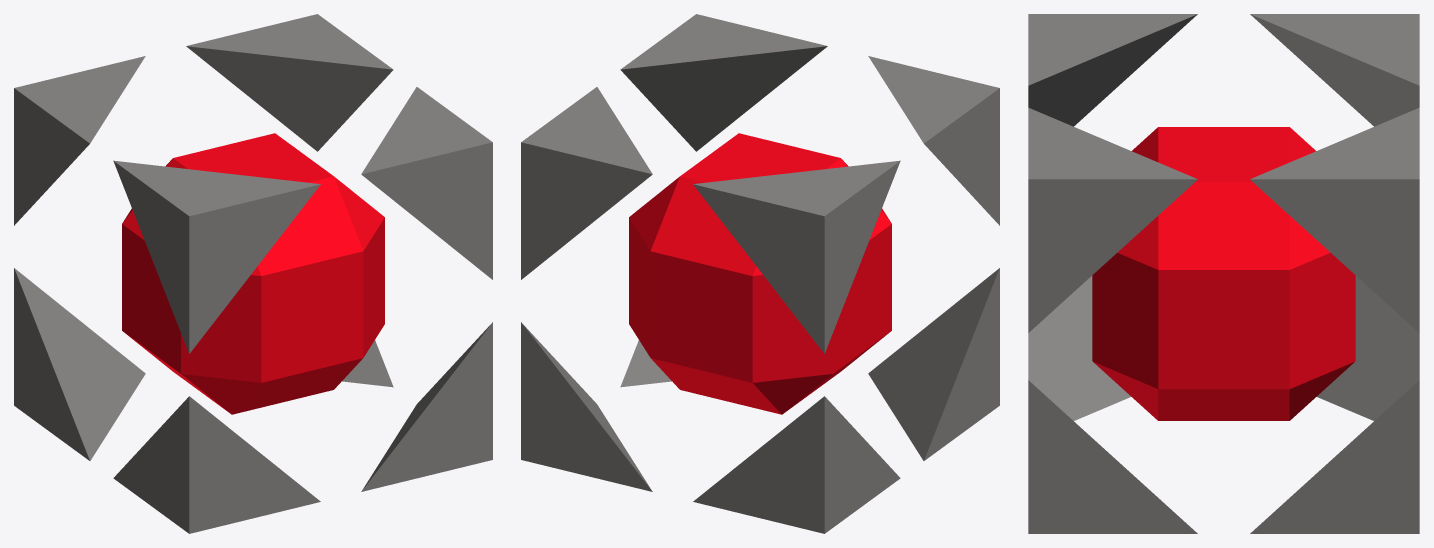
Rendered from bulletMother.obj.
The picture shows the model from 3 angles, left to right: view 1: azimuth 30°, elevation 25°; view 2: azimuth 150°, elevation 25°; view 3: azimuth 270°, elevation 25°; orthographic projection. The views are drawn at different scales.
Parts seen in each view (by area): view 1: 弾生成_立方体.002; view 2: 弾生成_立方体.002; view 3: 弾生成_立方体.002.
Boxes of the visible parts, <box> form: 弾生成_立方体.002: <box>14,14,492,533</box>; 弾生成_立方体.002: <box>521,14,999,533</box>; 弾生成_立方体.002: <box>1028,14,1419,533</box>.
Size of the model in its own units: 1.6 by 1.6 by 1.6.
1 material, 1 textured.
